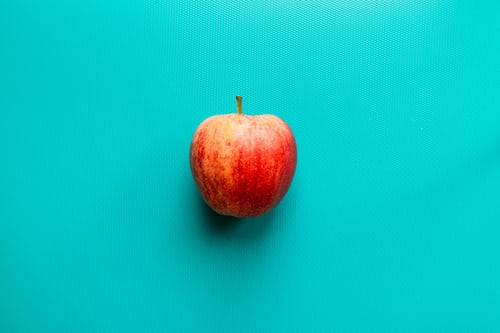apple: (188, 90, 297, 220)
